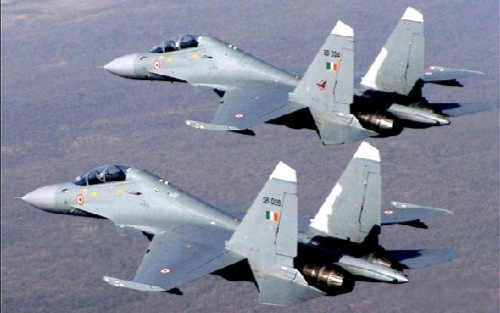airplane: (9, 138, 462, 307), (92, 5, 485, 142)
